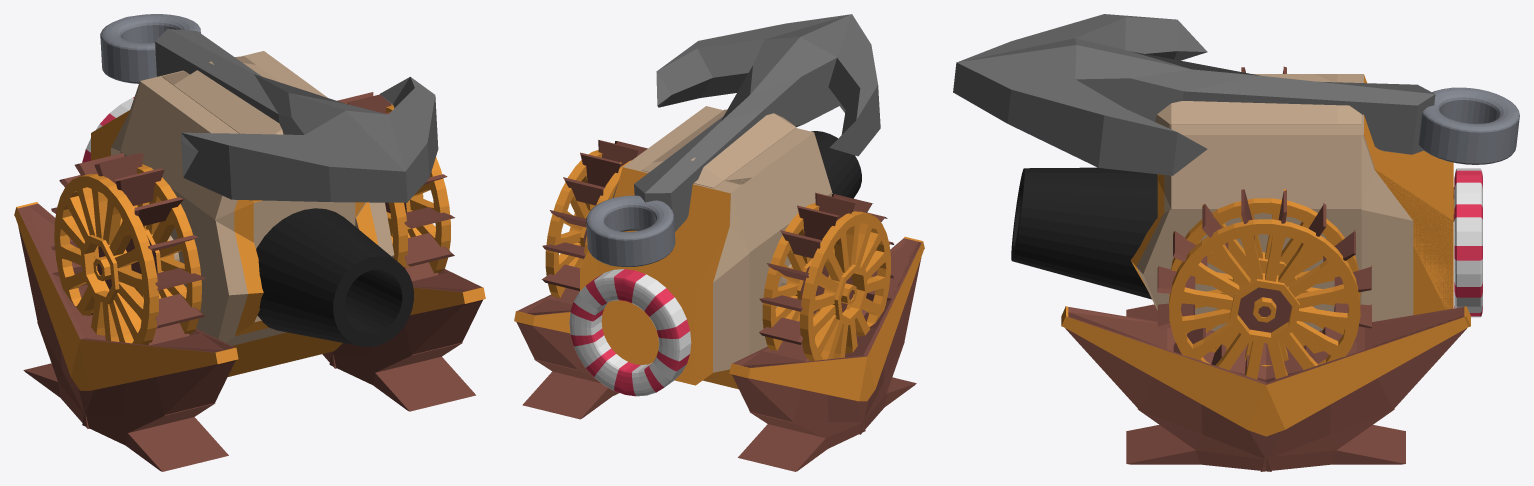
Rendered from WaterTowerLV2.fbx.
The picture shows the model from 3 angles, left to right: view 1: azimuth 30°, elevation 25°; view 2: azimuth 150°, elevation 25°; view 3: azimuth 270°, elevation 25°; orthographic projection. The views are drawn at different scales.
Visible parts, largest first — view 1: Circle.001, anchor21, Body.001, base21, Cylinder.008, base11, base22, anchor22, Body.002, Body.003, base12; view 2: Circle.001, anchor21, Body.001, base21, Body.002, anchor22.002, base22, base11, anchor22, anchor22.001, Cylinder.008, base12; view 3: anchor21, Body.001, Circle.001, base11, Cylinder.008, base12, Body.002, anchor22, anchor22.002, anchor22.001.
Part boxes in pixels (x1,y1,x2,y2): Circle.001: (51, 92, 454, 345); anchor21: (155, 29, 438, 202); Body.001: (111, 51, 394, 345); base21: (18, 203, 235, 471); Cylinder.008: (256, 208, 413, 346); base11: (322, 269, 482, 411); base22: (14, 202, 238, 390); anchor22: (100, 14, 200, 83); Body.002: (91, 110, 378, 335); Body.003: (228, 332, 342, 376); base12: (410, 287, 485, 315); Circle.001: (542, 140, 893, 361); anchor21: (634, 14, 880, 231); Body.001: (612, 106, 832, 372); base21: (731, 238, 921, 471); Body.002: (580, 167, 730, 385); anchor22.002: (569, 269, 691, 396); base22: (729, 236, 924, 401); base11: (516, 294, 618, 419); anchor22: (586, 195, 675, 267); anchor22.001: (570, 269, 689, 396); Cylinder.008: (811, 131, 861, 198); base12: (514, 311, 570, 333); anchor21: (953, 14, 1435, 175); Body.001: (1136, 74, 1413, 331); Circle.001: (1157, 66, 1371, 379); base11: (1065, 307, 1466, 471); Cylinder.008: (1011, 167, 1157, 299); base12: (1061, 306, 1470, 436); Body.002: (1130, 75, 1453, 315); anchor22: (1418, 87, 1519, 164); anchor22.002: (1454, 168, 1482, 317); anchor22.001: (1454, 170, 1482, 316).
Bounding box in the file's own units: 822 × 797 × 1181.
